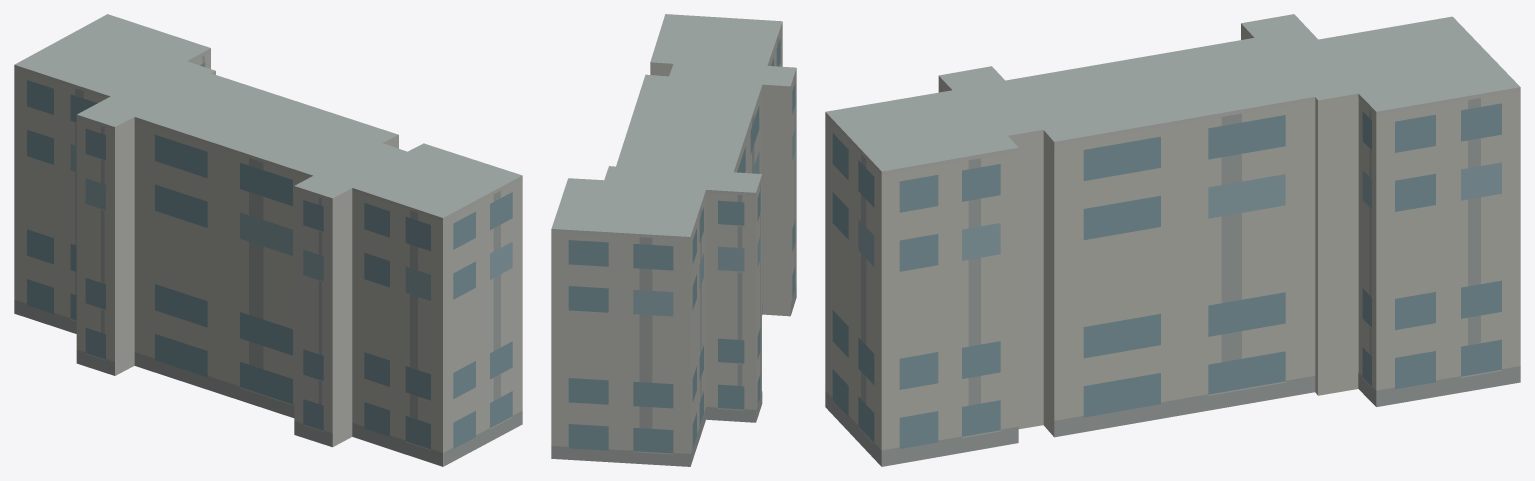
The model's file is survey-upis-32917849.glb.
3 renders of one model, left to right at view 1: azimuth 30°, elevation 25°; view 2: azimuth 150°, elevation 25°; view 3: azimuth 270°, elevation 25°, orthographic. The views are drawn at different scales.
Visible parts, largest first — view 1: survey-upis-32917849.tmp; view 2: survey-upis-32917849.tmp; view 3: survey-upis-32917849.tmp.
Part boxes in pixels (x1,y1,x2,y2): survey-upis-32917849.tmp: (14,14,522,466); survey-upis-32917849.tmp: (551,14,796,466); survey-upis-32917849.tmp: (825,14,1520,466).
Size of the model in its own units: 20.37 by 17.8 by 37.98.
